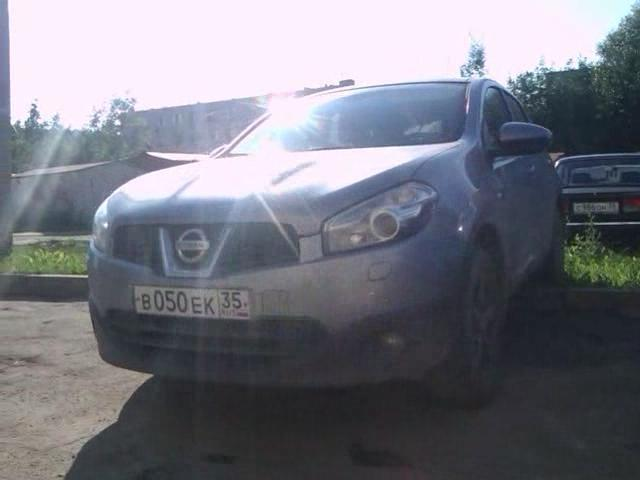license-plateSW: (131, 284, 251, 319)
